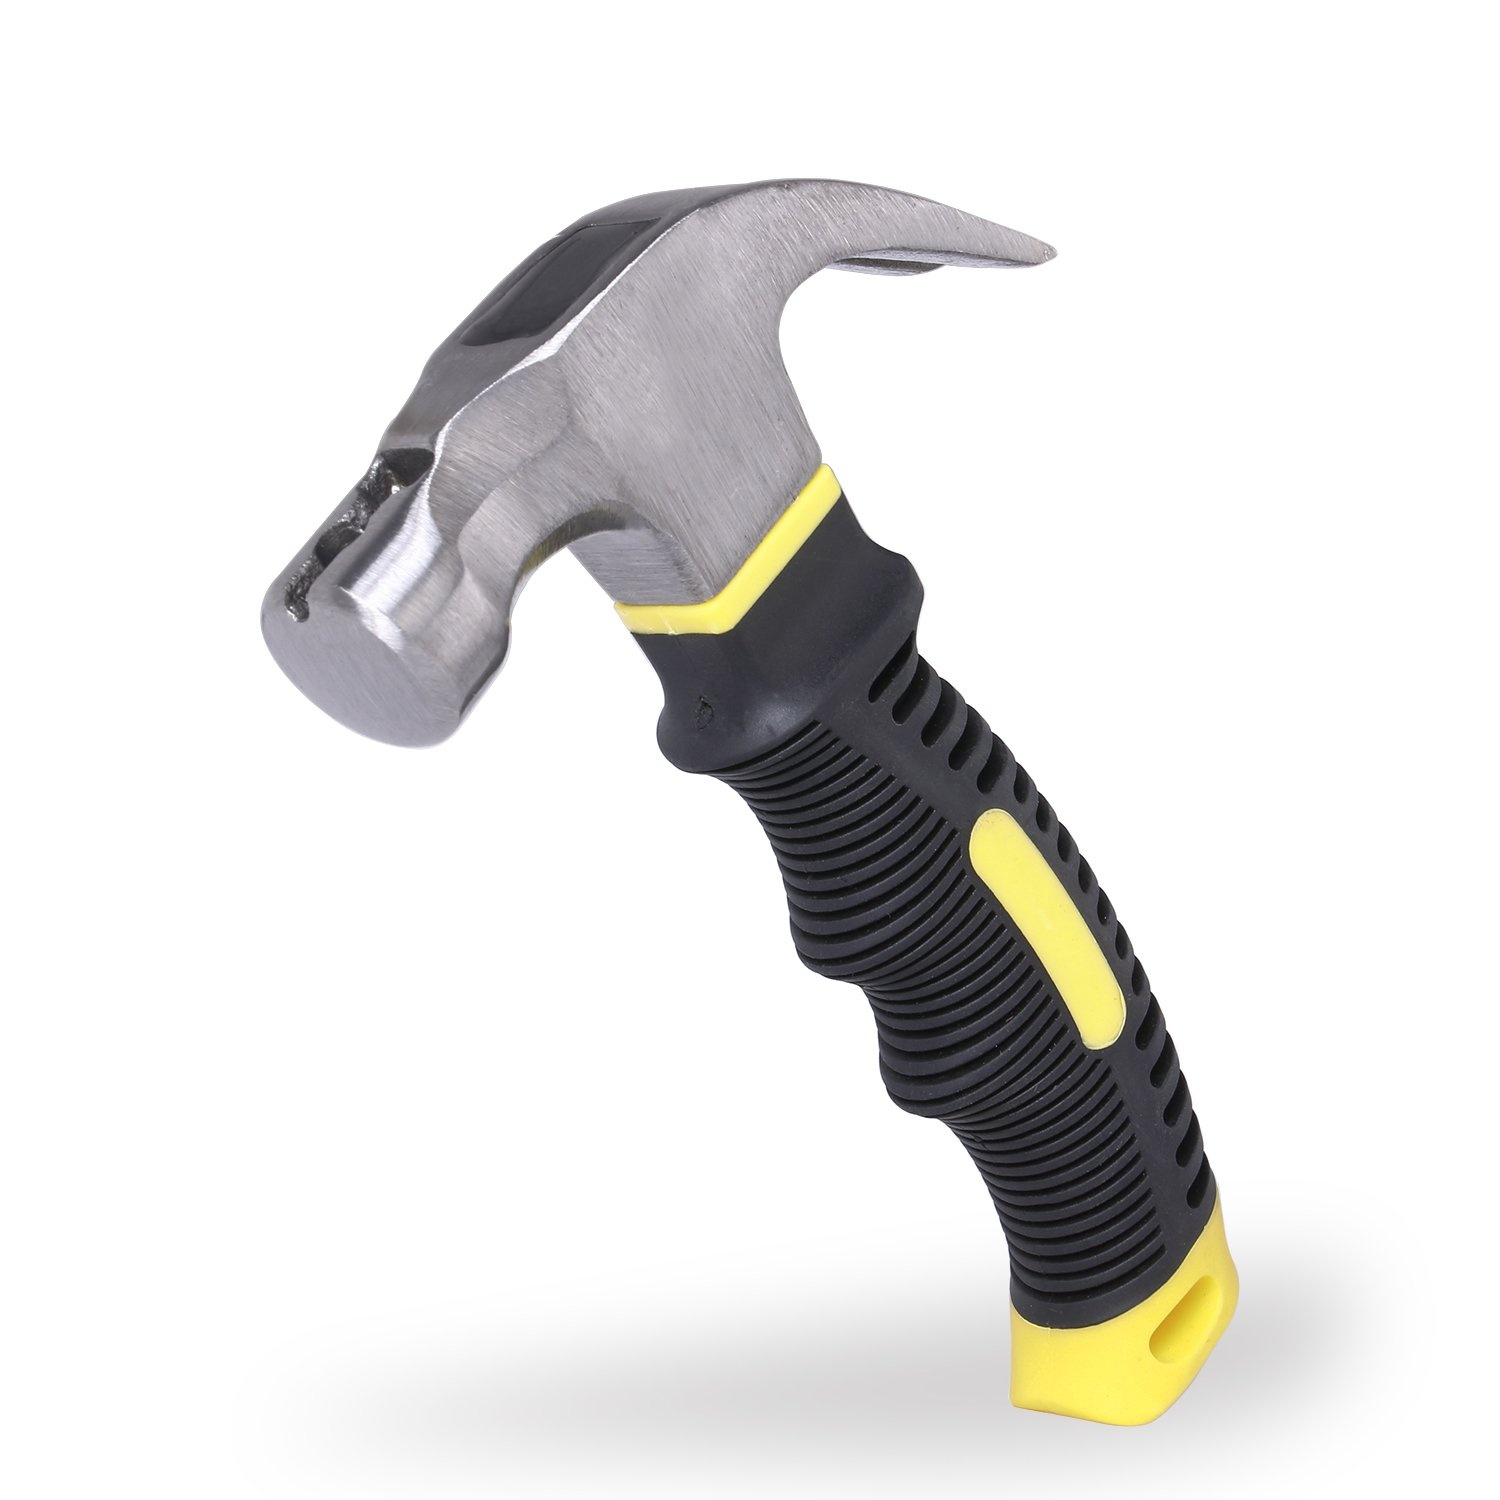hammer: (255, 172, 1245, 1422)
